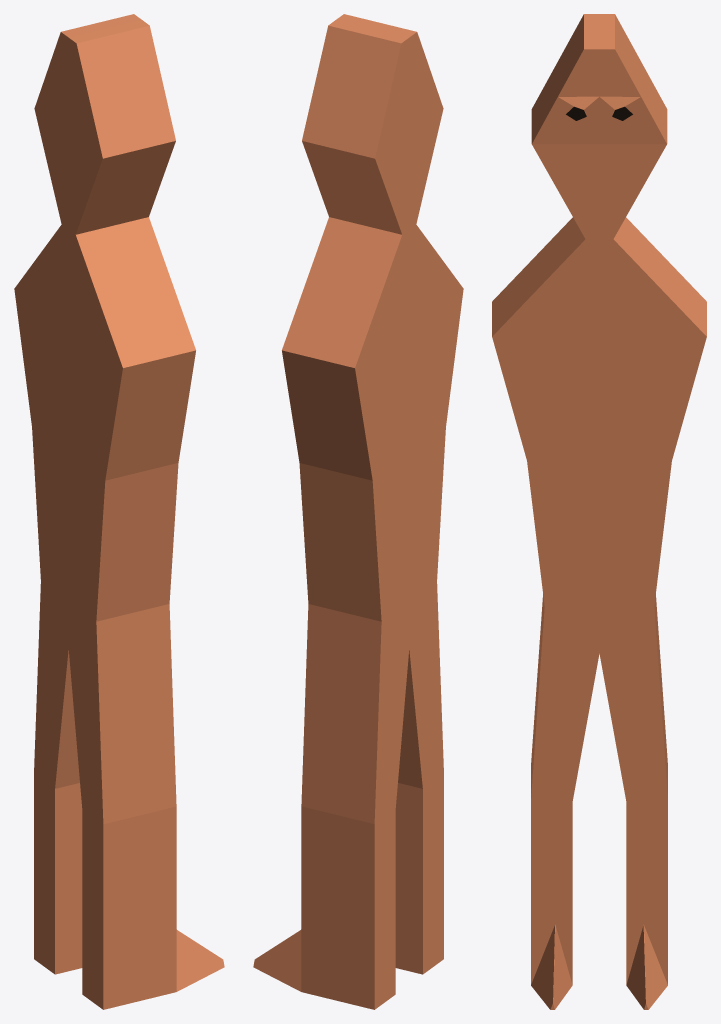
The model's file is PlayerCharacter.glb.
The picture shows the model from 3 angles, left to right: view 1: azimuth 30°, elevation 25°; view 2: azimuth 150°, elevation 25°; view 3: azimuth 270°, elevation 25°; orthographic projection.
Visible parts, largest first — view 1: Cube; view 2: Cube; view 3: Cube.
Boxes of the visible parts, box(x1,y1,x2,y2) form: Cube: box(14, 14, 224, 1009); Cube: box(253, 14, 463, 1009); Cube: box(492, 14, 706, 1009).
Size of the model in its own units: 1.13 by 7.81 by 1.62.
